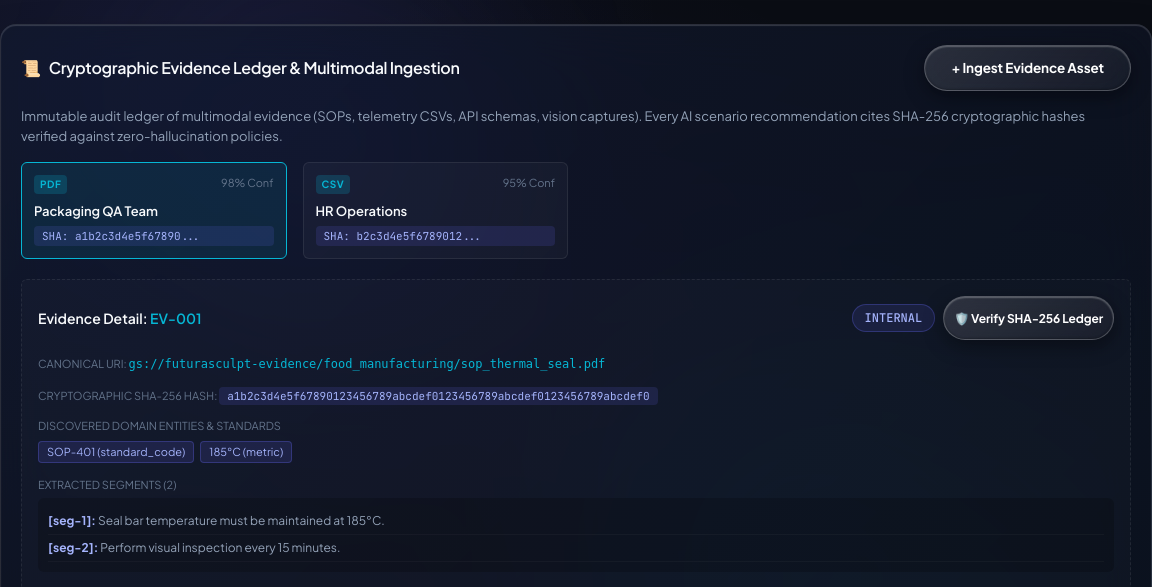
Test: EvidenceDrawer Component › verifies SHA-256 integrity: valid match, invalid mismatch, and error handling
Click the button "🛡️ Verify SHA-256 Ledger".
click(1029, 318)  # box [943,296,1114,340]
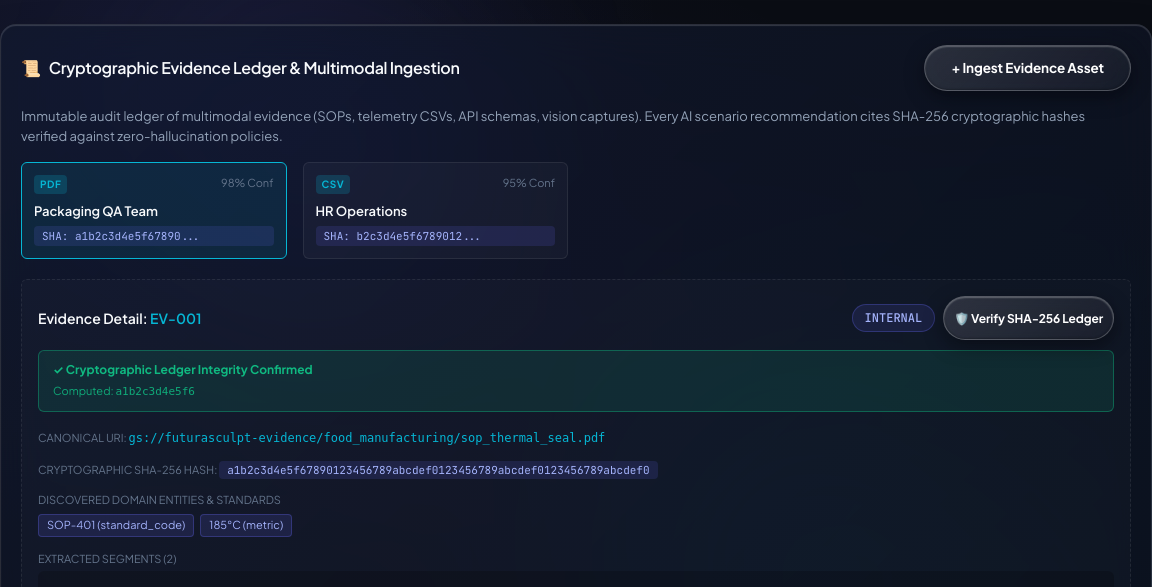
Expected: the text "✓ Cryptographic Ledger Integrity Confirmed" is shown, [53,362,313,377]
Expected: the text "a1b2c3d4e5f6" is shown, [116,385,195,398]
// Select another item resets integrity result
Click the text "HR Operations".
click(361, 211)  # box [316,203,407,219]
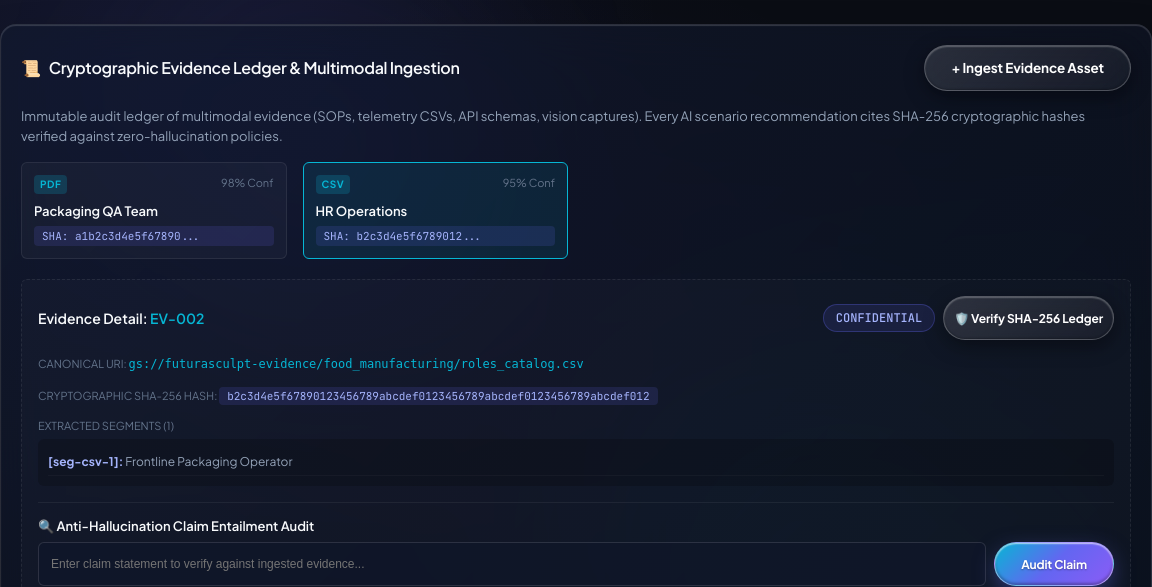
Expected: the text "Cryptographic Ledger Integrity Confirmed" is gone
Click the button "🛡️ Verify SHA-256 Ledger".
click(1029, 318)  # box [943,296,1114,340]
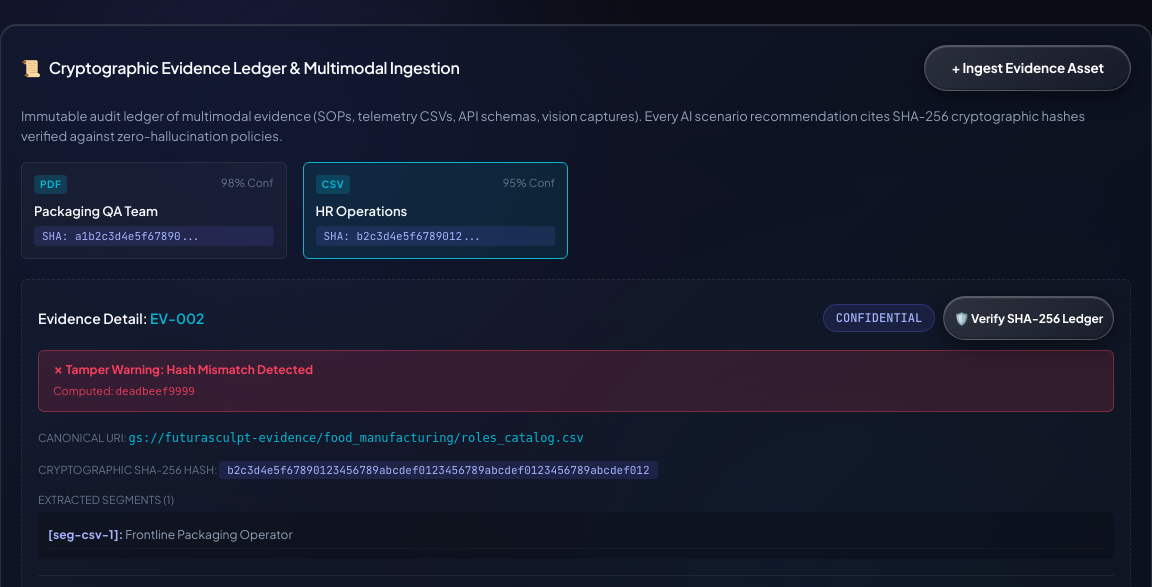
Expected: the text "✗ Tamper Warning: Hash Mismatch Detected" is shown, [53,362,313,377]
Click the button "🛡️ Verify SHA-256 Ledger".
click(1029, 318)  # box [943,296,1114,340]
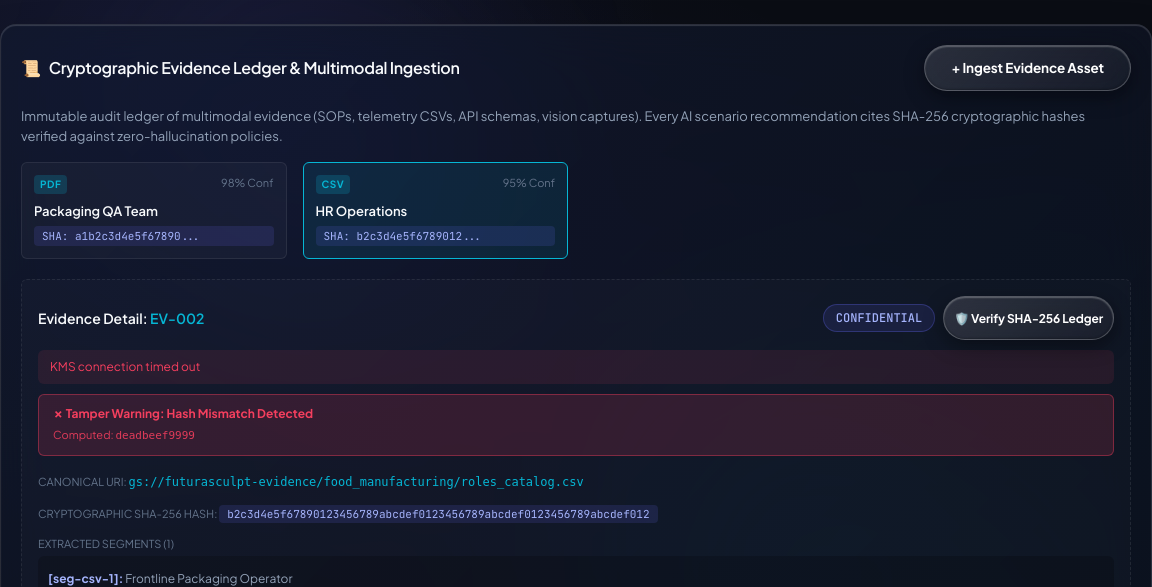
Expected: the text "KMS connection timed out" is shown, [38,350,1114,384]
Click the button "🛡️ Verify SHA-256 Ledger".
click(1029, 318)  # box [943,296,1114,340]
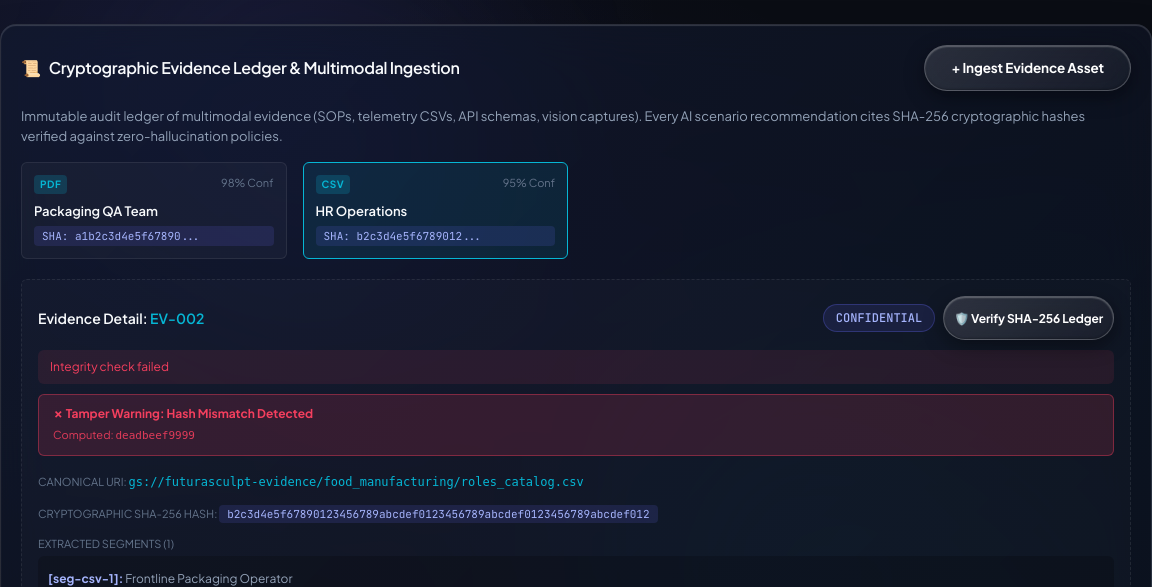
Expected: the text "Integrity check failed" is shown, [38,350,1114,384]
